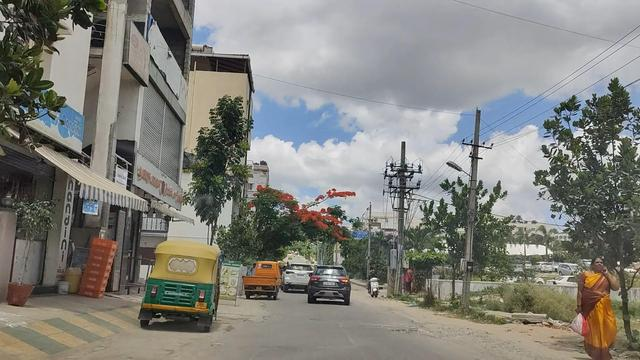RoadDamages: (362, 305, 451, 344), (238, 299, 294, 330), (462, 333, 520, 360)
